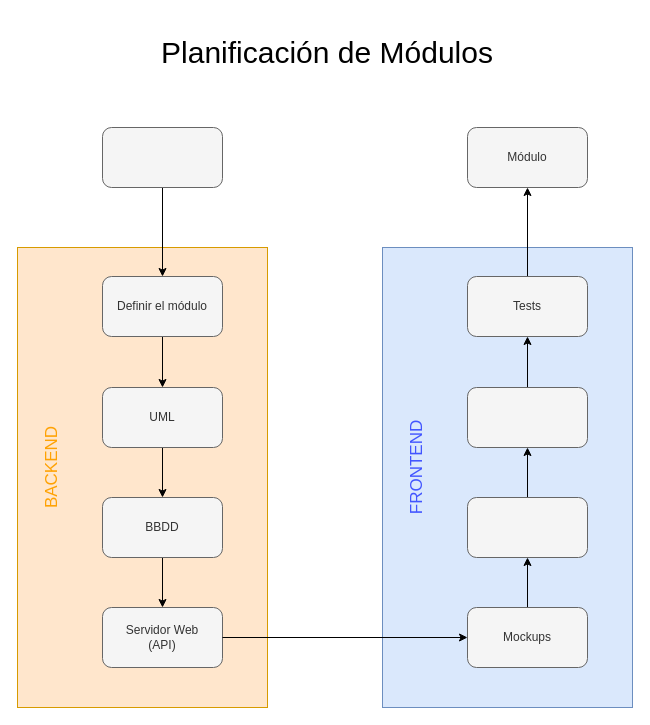
The diagram is 650 pixels wide and 725 high, and some of its shapes have lost their labels. Each missing label, with the centre of its shape:
"Aplicación de Escritorio" belongs at pixel 527 527.
"Estilos (CSS)" belongs at pixel 527 417.
"Planificación" belongs at pixel 162 157.
